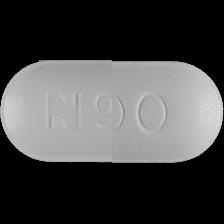55289-629: (0, 0, 224, 224)
